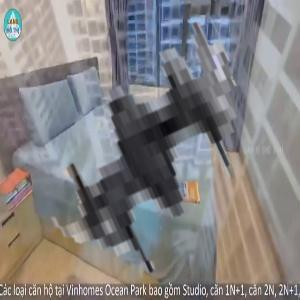drone: (2, 1, 282, 281)
